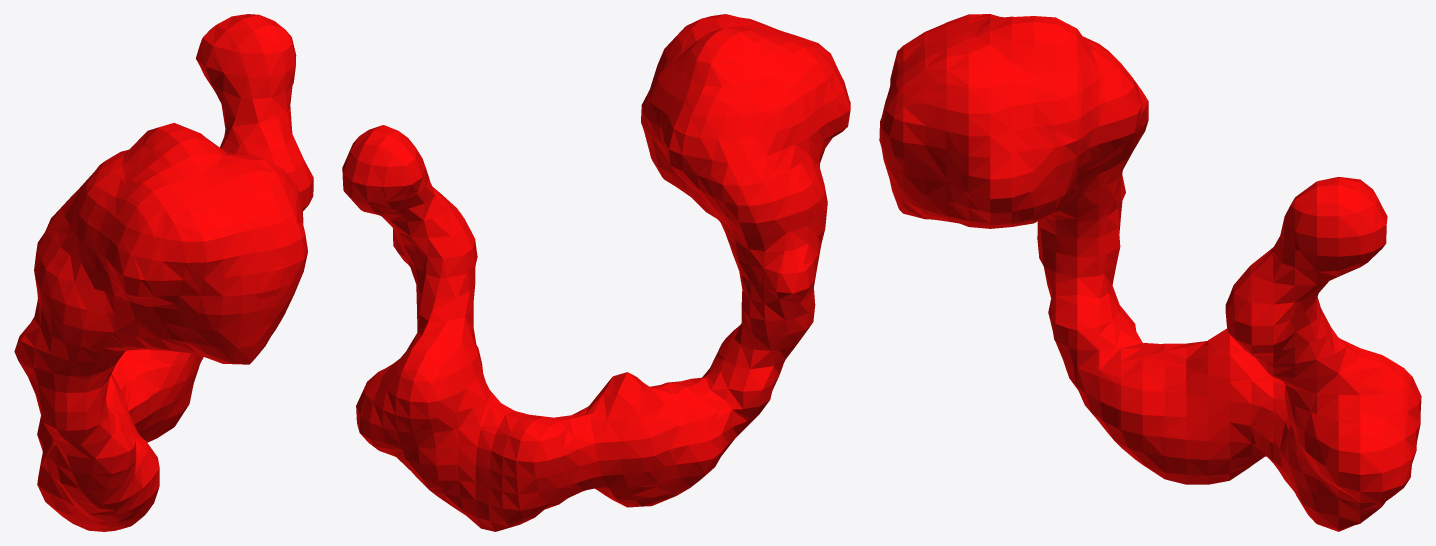
The model's file is rplO_coarse.dae.
3 views of the same model, side by side, from view 1: azimuth 30°, elevation 25°; view 2: azimuth 150°, elevation 25°; view 3: azimuth 270°, elevation 25° (orthographic). The views are drawn at different scales.
Parts seen in each view (by area): view 1: rplO; view 2: rplO; view 3: rplO.
Boxes of the visible parts, x1,y1,x2,y2 form: rplO: (14, 14, 313, 531); rplO: (342, 14, 850, 531); rplO: (879, 14, 1421, 531).
Bounding box in the file's own units: 56.21 × 63.16 × 67.36.
